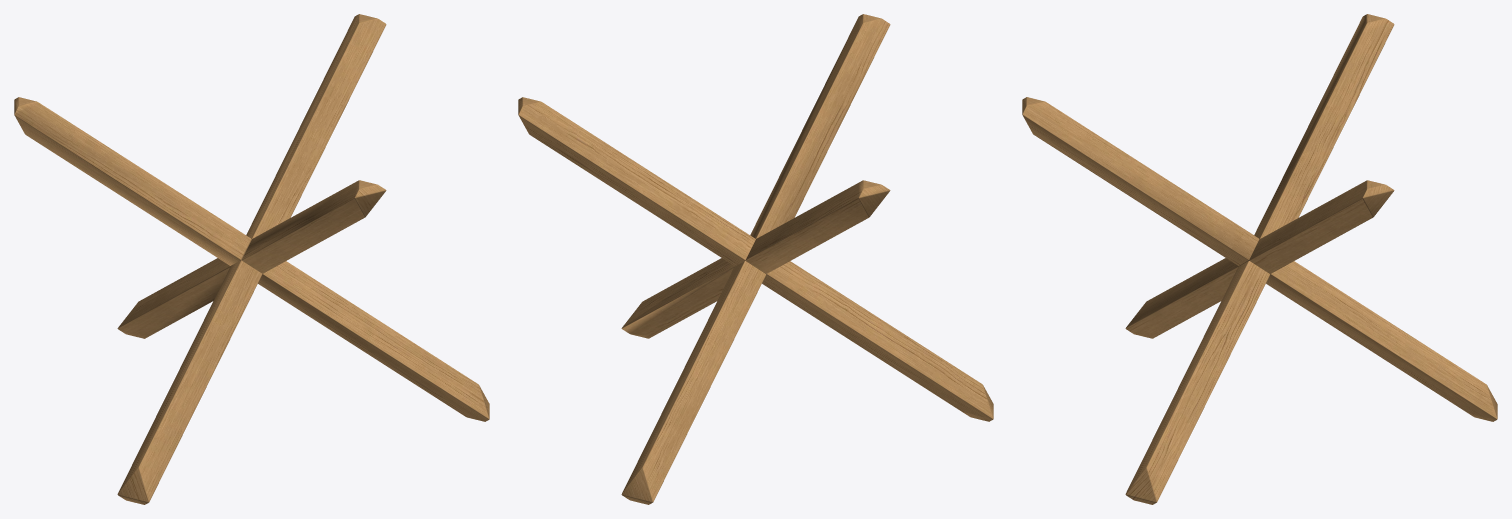
The picture shows the model from 3 angles, left to right: view 1: azimuth 30°, elevation 25°; view 2: azimuth 150°, elevation 25°; view 3: azimuth 270°, elevation 25°; orthographic projection.
Visible parts, largest first — view 1: Object_112; view 2: Object_112; view 3: Object_112.
Boxes of the visible parts, x1=… form: Object_112: x1=14, y1=14, x2=489, y2=504; Object_112: x1=518, y1=14, x2=993, y2=504; Object_112: x1=1022, y1=14, x2=1497, y2=504.
Size of what is drawn, in the model's own units: 0.9253 by 0.7522 by 1.02.
Materials: 1 (1 with a texture image).
